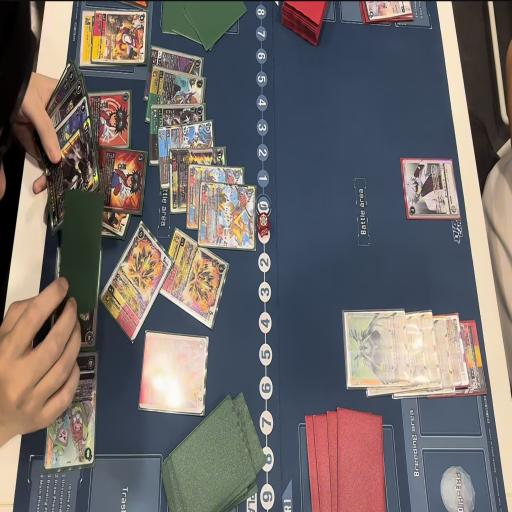card: (98, 222, 168, 346), (42, 354, 100, 476), (161, 231, 230, 333), (138, 331, 210, 415), (47, 120, 97, 230), (344, 307, 406, 392), (402, 156, 461, 226), (198, 183, 260, 247), (168, 148, 226, 215), (186, 166, 246, 230), (157, 118, 213, 186), (147, 107, 207, 168), (146, 68, 210, 123), (90, 10, 149, 68), (98, 144, 145, 216), (145, 48, 207, 102), (87, 89, 131, 156), (50, 96, 90, 154), (460, 318, 486, 400), (49, 302, 95, 348), (43, 60, 78, 120), (51, 74, 89, 128), (443, 308, 467, 392), (406, 310, 429, 393), (420, 308, 440, 396), (433, 317, 452, 400), (364, 0, 415, 26), (79, 8, 98, 68), (100, 205, 131, 240)
